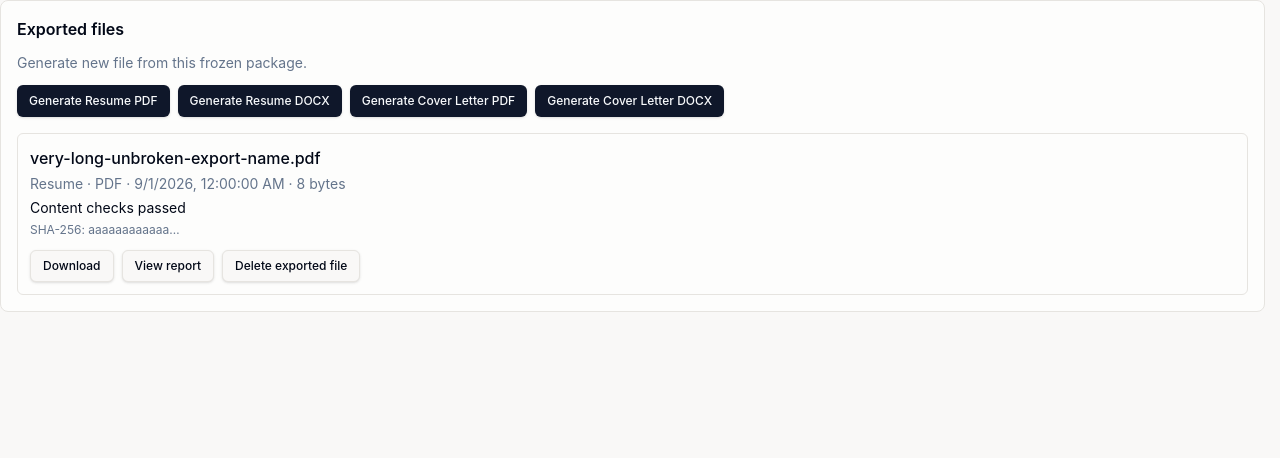
Test: ArtifactPanel › keeps generation controls and long report values inside shrinkable cards
Click the button "View report".
click(168, 266)  # box [122,250,214,282]
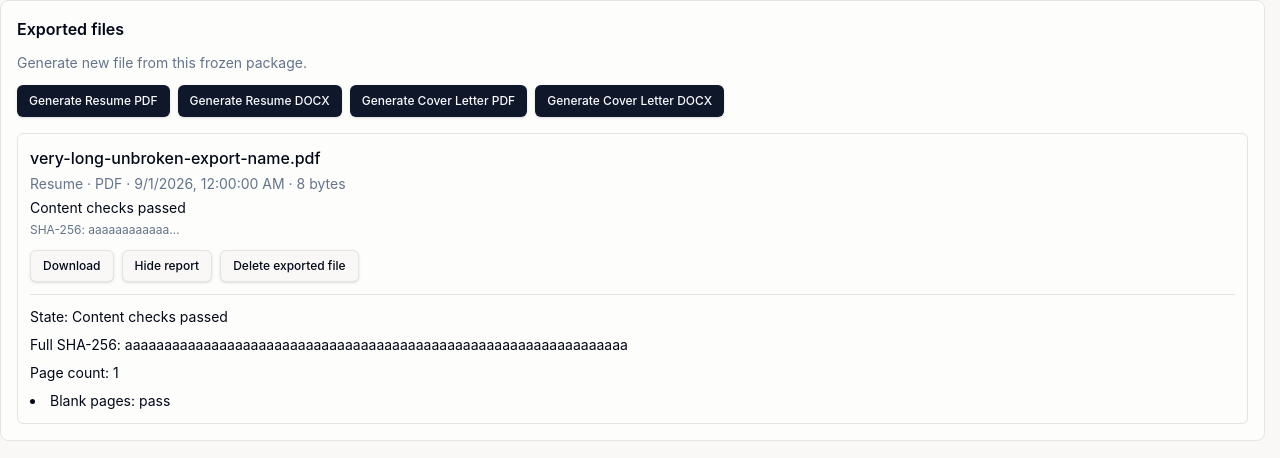
expect the text "Full SHA-256" is shown: met, box [30,336,125,353]
